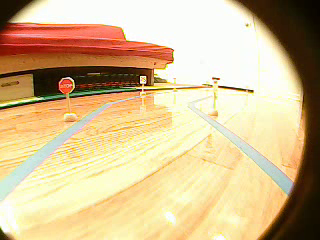Red Traffic Light: (56, 77, 75, 94), (210, 78, 220, 100)
